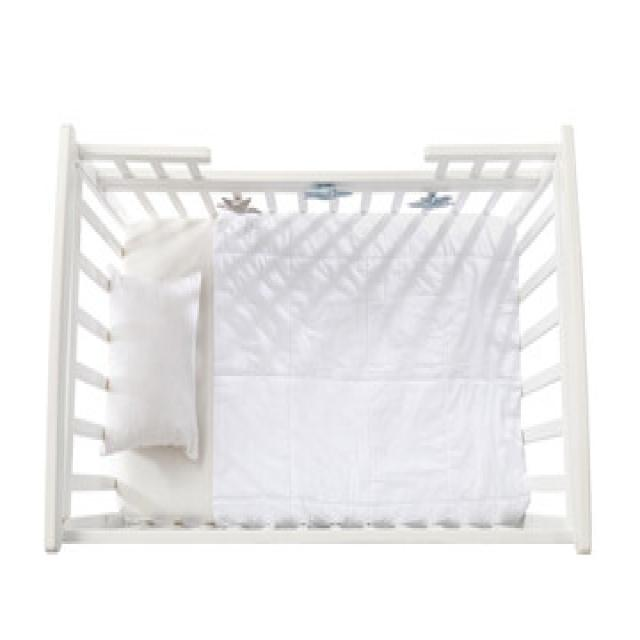crib: (43, 120, 592, 552)
